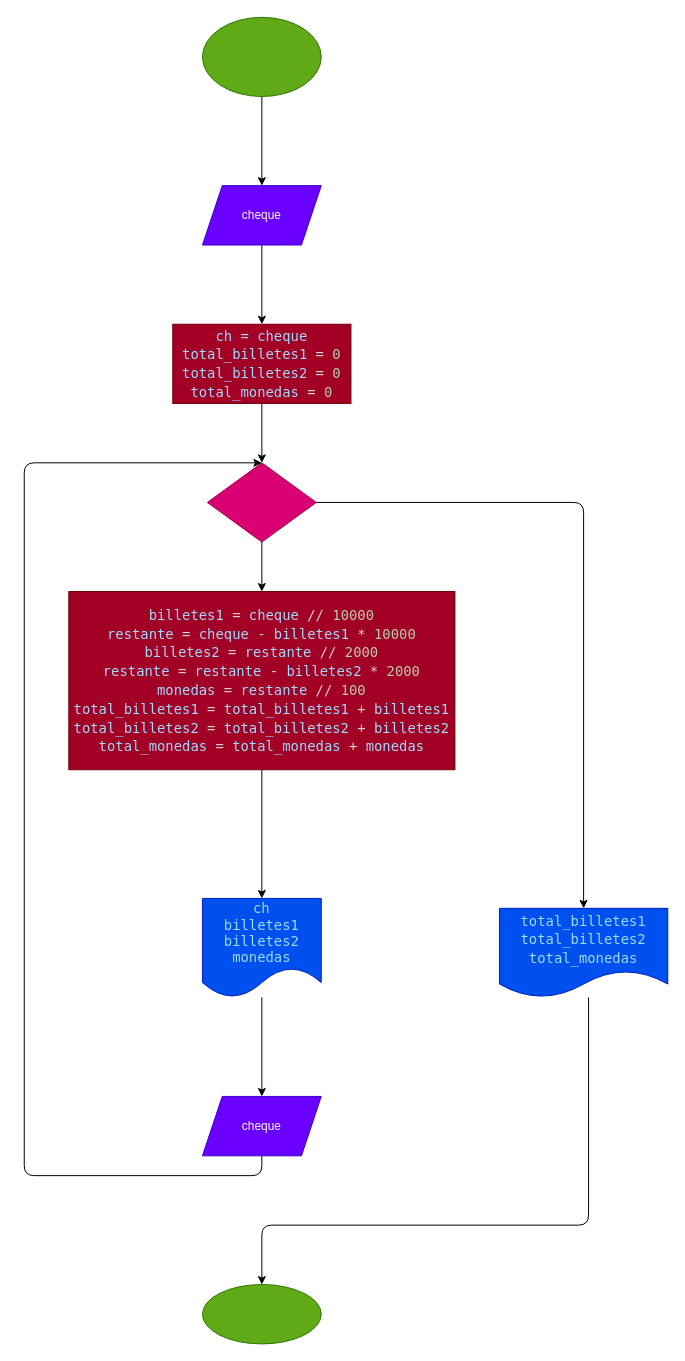
Some shapes in this 685 by 1361 pixel diagram are drawn without their labels. The centre of each missing label's shape, as x and y in pixels:
"cheque != 0" goes at point (261, 502).
"FIN" goes at point (261, 1314).
"INICIO" goes at point (261, 56).
